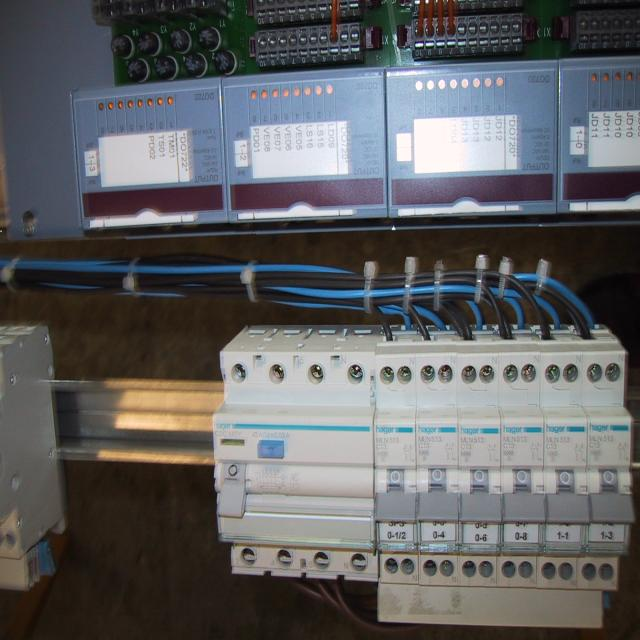FI_Sicherungskombi: (213, 324, 383, 578)
SPS_System_Steuerungskomponente: (386, 62, 559, 223), (221, 70, 386, 226), (72, 74, 229, 234), (558, 54, 640, 212)
Sicherungen_230V: (569, 324, 635, 557), (531, 322, 591, 557), (491, 323, 546, 559), (373, 324, 422, 556), (459, 325, 503, 557), (418, 324, 459, 556)
